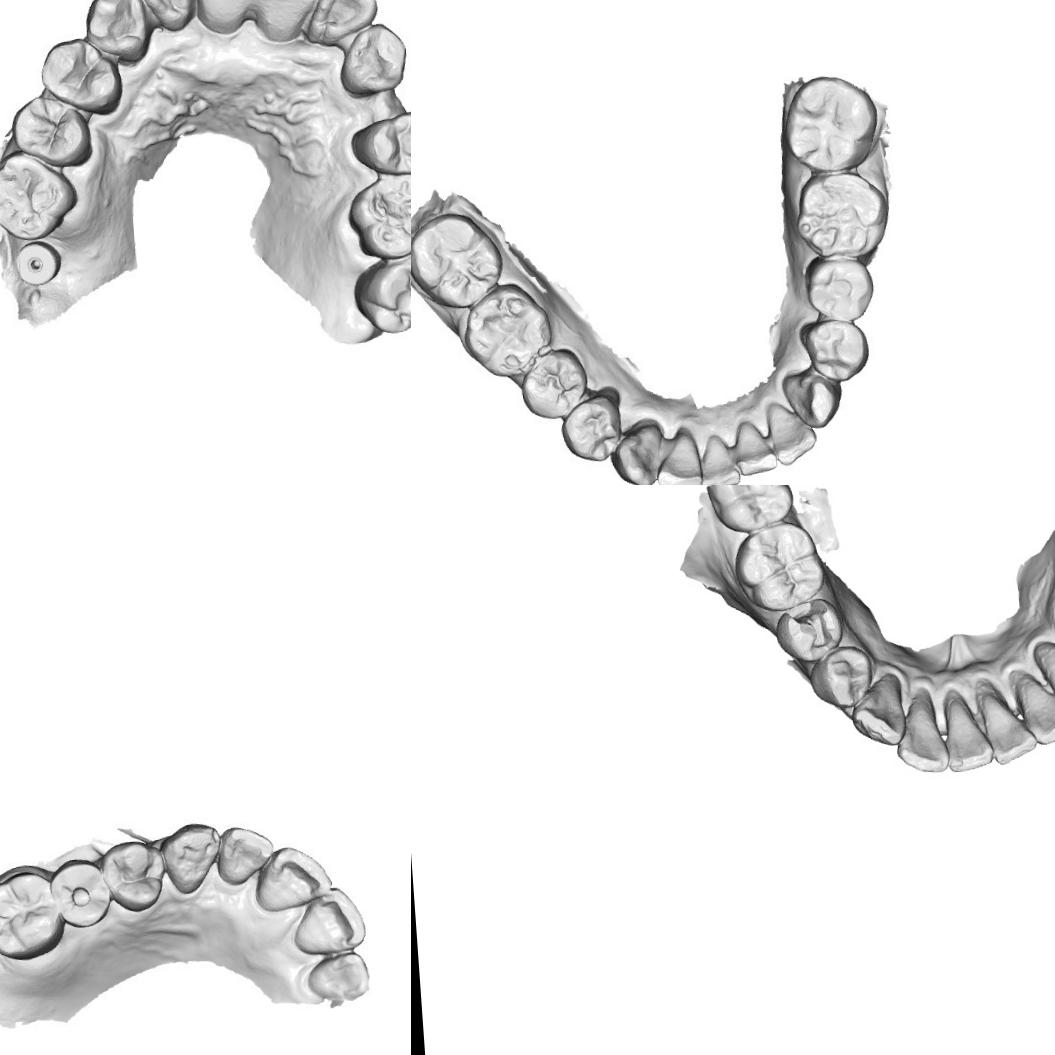canine: (330, 15, 411, 102), (776, 364, 849, 435), (847, 670, 908, 750), (80, 0, 153, 66), (608, 419, 671, 485), (166, 823, 222, 889), (1030, 635, 1055, 709)
implant: (8, 238, 68, 288)
incisor: (290, 888, 366, 960), (258, 847, 329, 913), (980, 688, 1036, 766), (893, 701, 951, 776), (943, 702, 993, 774), (305, 0, 381, 46), (216, 826, 271, 888), (313, 952, 374, 1006), (655, 423, 704, 485), (766, 398, 813, 462), (1016, 674, 1055, 746), (735, 419, 776, 478), (699, 432, 743, 485), (132, 0, 197, 35), (252, 0, 336, 27), (186, 0, 269, 23)
inlay: (785, 597, 838, 653)
molar: (792, 167, 890, 260), (411, 207, 499, 309), (730, 520, 826, 613), (784, 77, 880, 169), (460, 286, 554, 377), (0, 145, 81, 246), (342, 167, 411, 260), (349, 249, 411, 340), (0, 871, 61, 957), (704, 485, 793, 532)
premolar: (37, 33, 123, 120), (7, 91, 96, 171), (801, 253, 874, 328), (796, 314, 872, 382), (516, 346, 584, 421), (345, 105, 411, 180), (557, 392, 626, 463), (812, 643, 874, 710), (52, 858, 111, 928), (107, 839, 162, 901)
